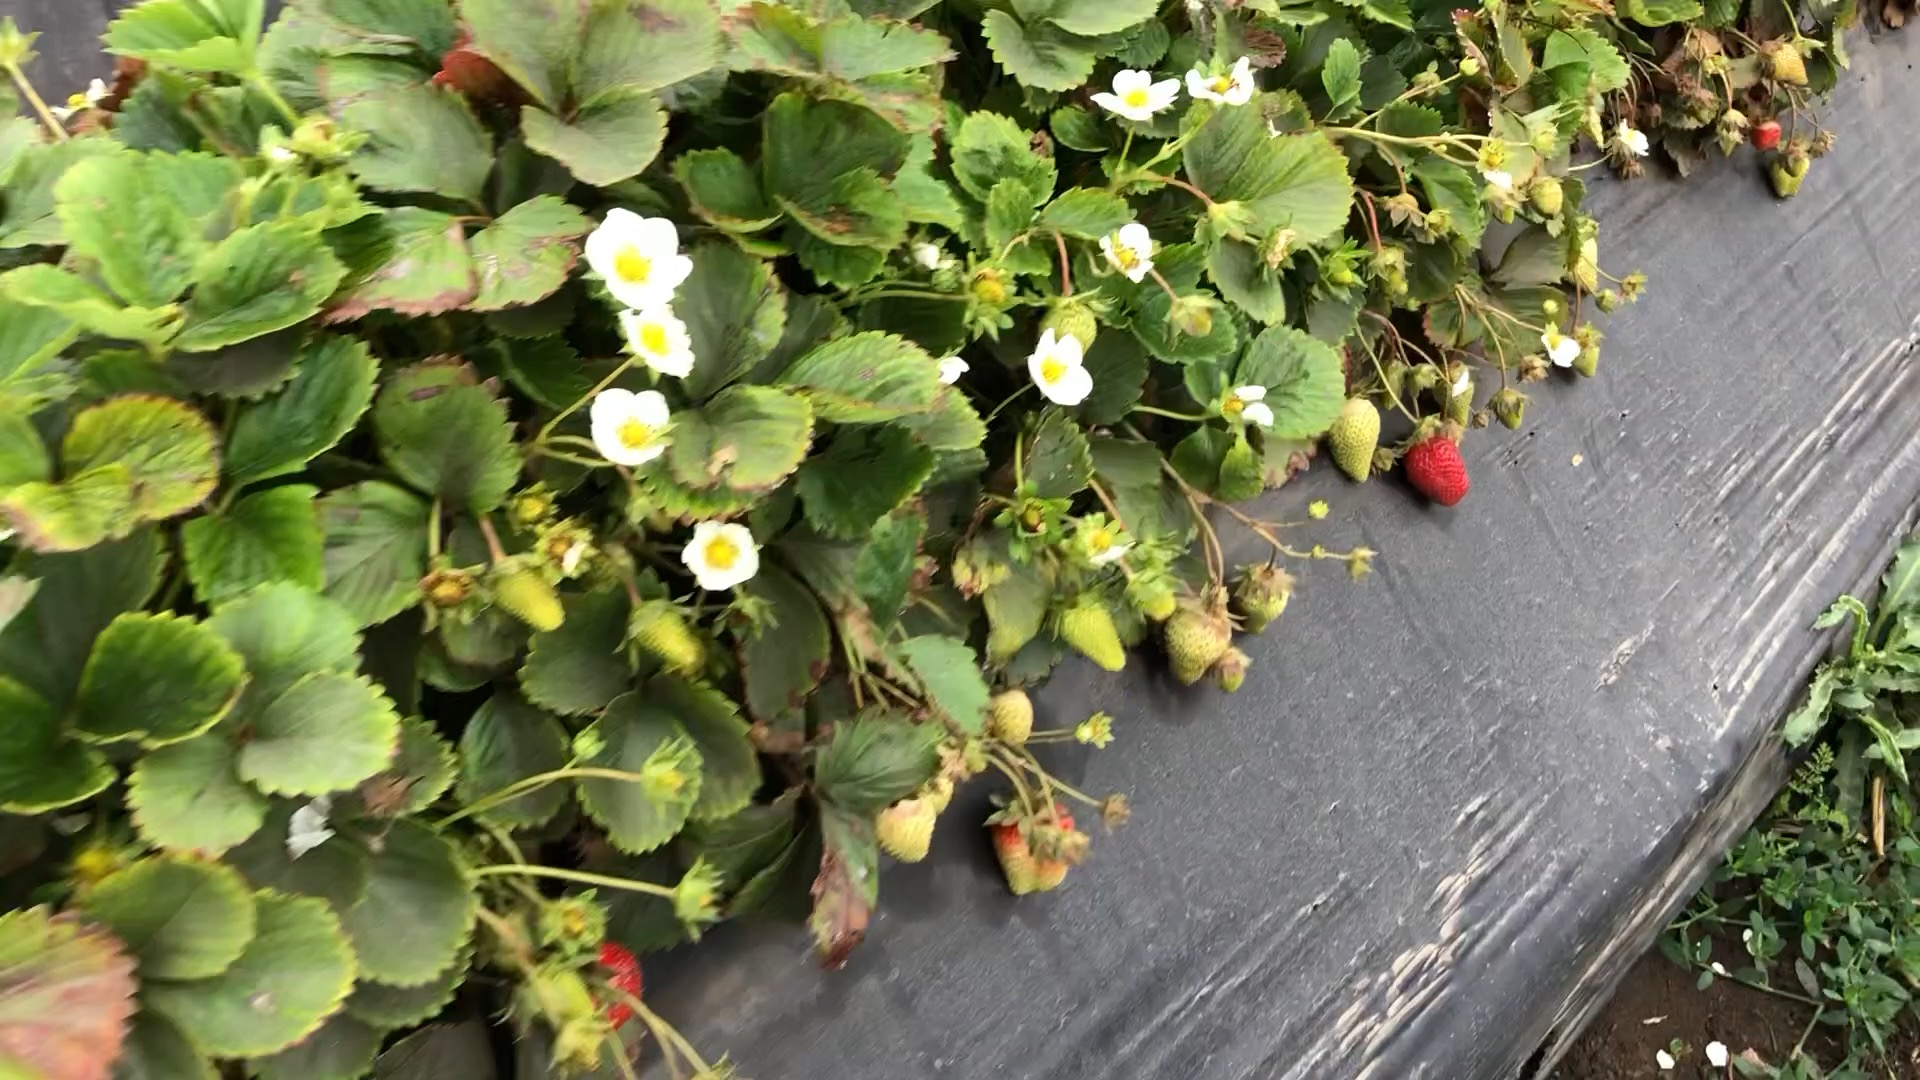ripe_strawberry: (1402, 431, 1474, 512), (588, 940, 644, 1033), (1754, 119, 1784, 154)
unripe_strawberry: (990, 794, 1080, 899), (484, 549, 575, 637), (1047, 585, 1131, 678), (1163, 593, 1228, 691), (1325, 386, 1383, 489), (873, 793, 942, 869), (632, 597, 703, 670), (1237, 562, 1294, 640), (981, 680, 1036, 749), (1424, 357, 1476, 429), (1751, 41, 1812, 92), (1125, 572, 1178, 622), (1770, 142, 1811, 203), (1526, 174, 1569, 220), (1491, 385, 1530, 434), (1569, 332, 1604, 382), (1215, 649, 1251, 692), (1486, 189, 1514, 229), (1778, 146, 1809, 179)
